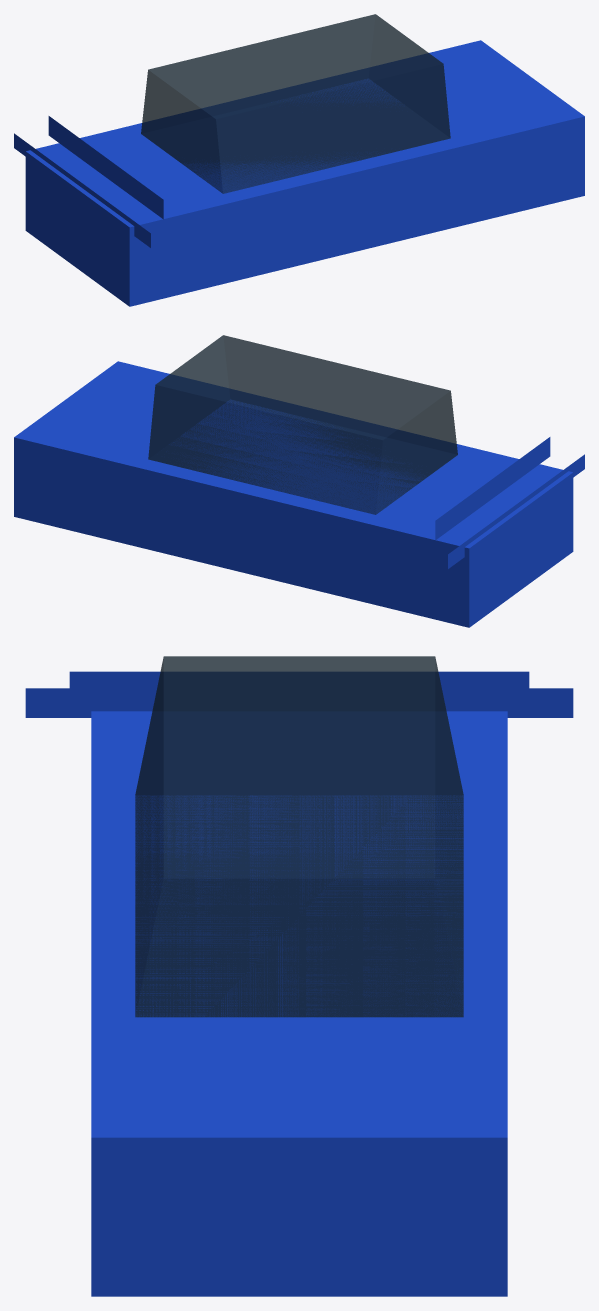
Rendered from exworld_test_car.obj.
3 renders of one model, top to bottom at view 1: azimuth 30°, elevation 25°; view 2: azimuth 150°, elevation 25°; view 3: azimuth 270°, elevation 25°, orthographic. The views are drawn at different scales.
Parts seen in each view (by area): view 1: EXWORLD_TestCar; view 2: EXWORLD_TestCar; view 3: EXWORLD_TestCar.
Part boxes in pixels (<box>): EXWORLD_TestCar: <box>14,14,584,306</box>; EXWORLD_TestCar: <box>14,335,584,627</box>; EXWORLD_TestCar: <box>25,656,573,1296</box>.
Bounding box in the file's own units: 4.8 × 1.5 × 2.5.
